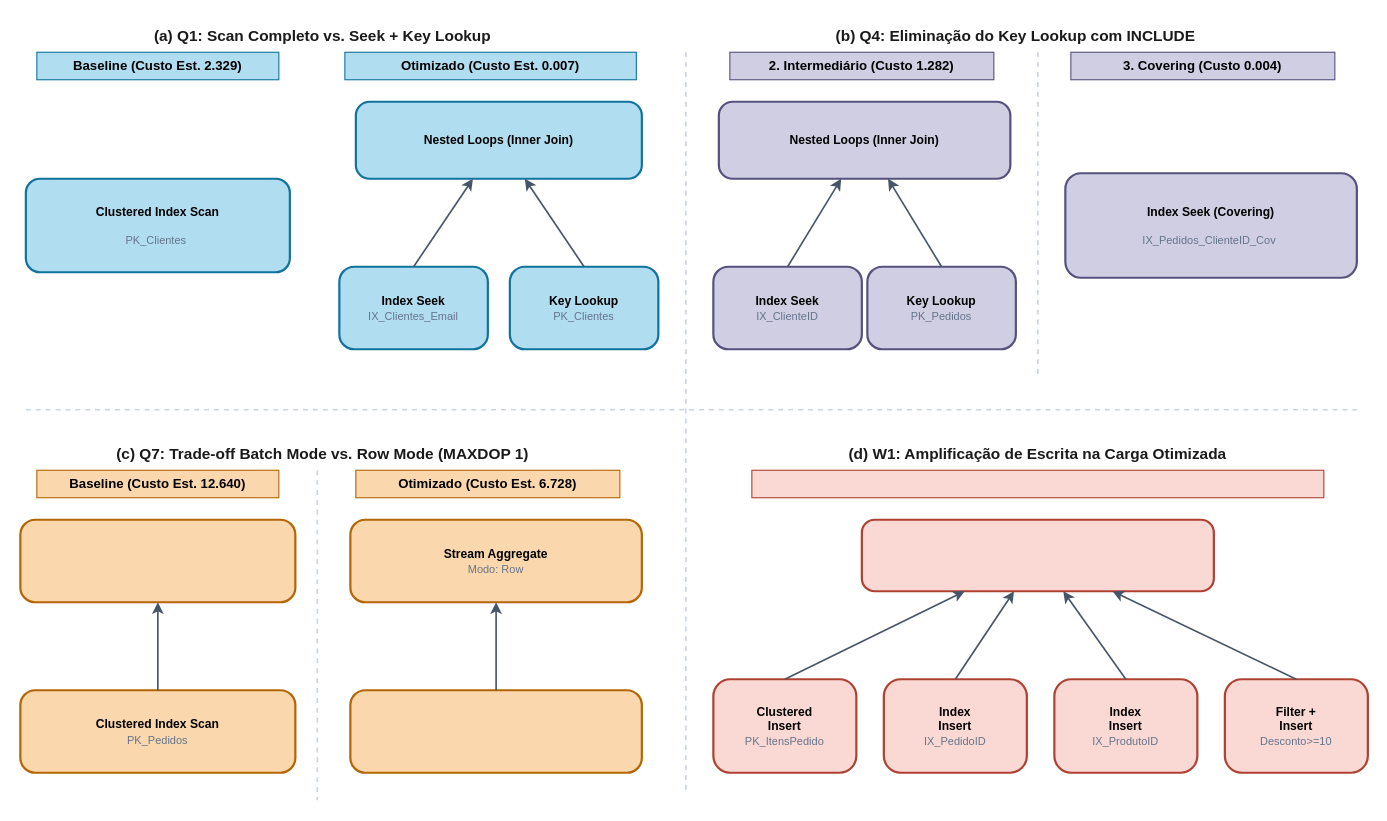
Image size: 1387x821. Some labels were removed from this diagram. Each missing label, with the centre of its shape:
"Hash Match [Aggregate] Modo: Batch" goes at point 157,560.
"Index Scan (Ordered) IX_Pedidos_Status_Cov" goes at point 495,731.
"Sequence (Escrita 10.000 linhas) Manutenção síncrona em 4 B+ Trees" goes at point 1037,555.
"Sequence Multi-Índice (Custo 3.841 | 180.057 pág. vs 97.154 base)" goes at point 1037,483.
